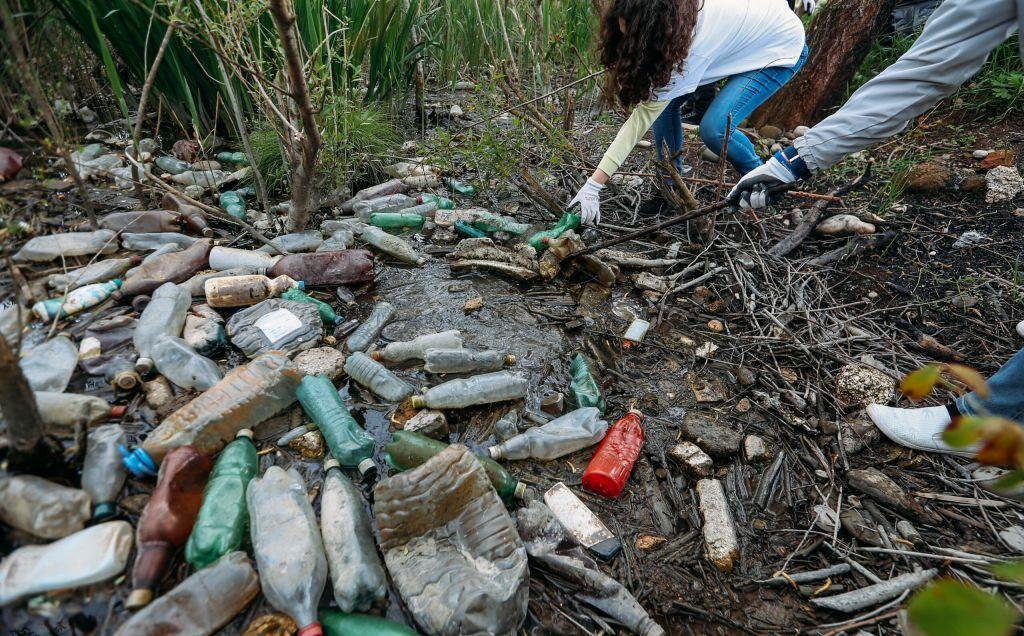bottle: (371, 441, 534, 636), (121, 348, 301, 478), (529, 544, 695, 636), (244, 463, 331, 636), (126, 447, 212, 608), (114, 549, 265, 636), (314, 456, 393, 610), (366, 412, 534, 481), (0, 520, 133, 607), (290, 370, 386, 484), (477, 396, 611, 466), (188, 428, 255, 566), (574, 396, 661, 502), (0, 463, 91, 540), (110, 238, 214, 301), (252, 234, 387, 278), (10, 219, 126, 268), (137, 278, 192, 380), (550, 342, 614, 426), (418, 366, 522, 414), (81, 313, 142, 392), (329, 163, 408, 222), (30, 276, 124, 325), (524, 193, 584, 266), (86, 410, 126, 518), (341, 348, 415, 404), (418, 338, 524, 377), (154, 183, 218, 246), (94, 201, 188, 243), (152, 336, 225, 390), (200, 273, 309, 308), (370, 330, 464, 369), (320, 605, 421, 636), (358, 225, 432, 267), (32, 338, 80, 397), (208, 243, 290, 274), (471, 211, 534, 239), (77, 151, 127, 182), (366, 210, 434, 230), (438, 170, 476, 199), (147, 153, 192, 177), (415, 191, 458, 215), (451, 220, 489, 247), (219, 188, 246, 223), (397, 201, 448, 219), (210, 150, 257, 167), (460, 60, 471, 66)
